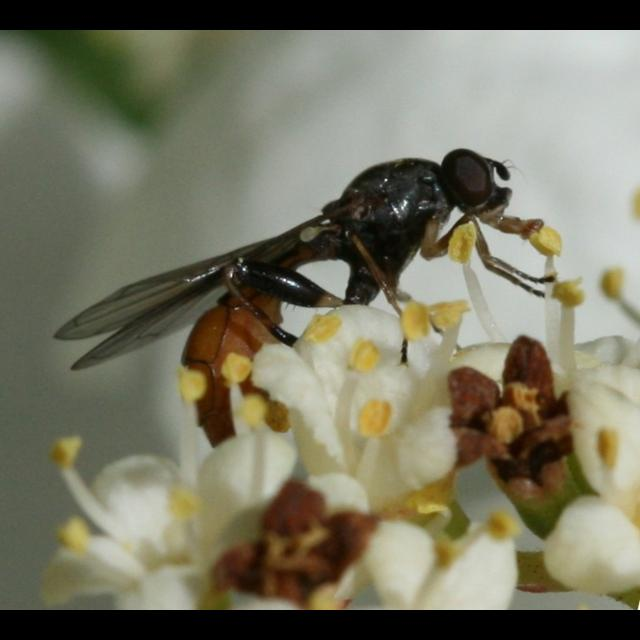Flower: (36, 223, 640, 609)
